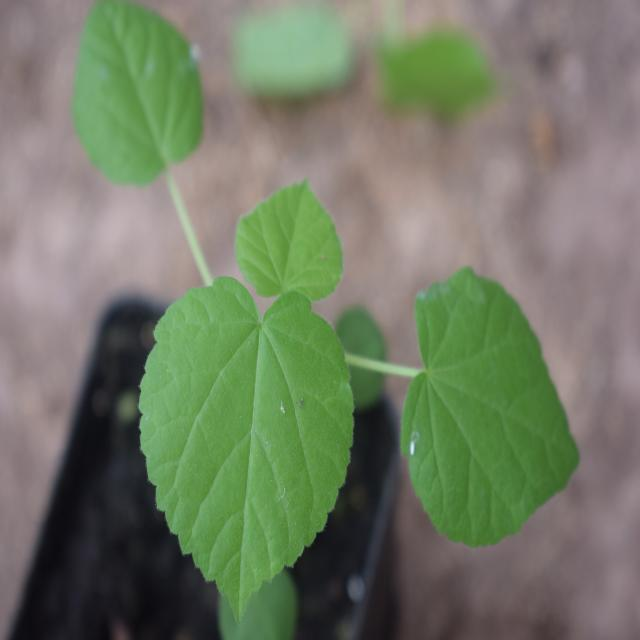abutilon theophrasti: (88, 0, 580, 620)
